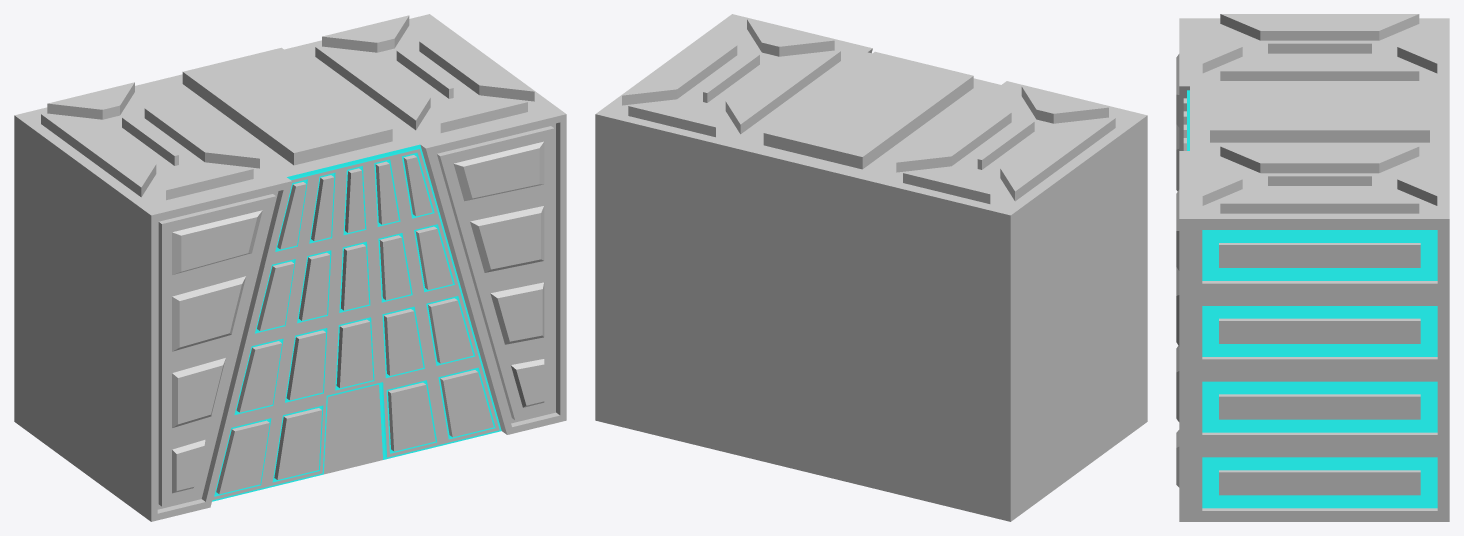
Rendered from building4.glb.
3 views of the same model, side by side, from view 1: azimuth 30°, elevation 25°; view 2: azimuth 150°, elevation 25°; view 3: azimuth 270°, elevation 25° (orthographic).
Parts seen in each view (by area): view 1: Cube.013; view 2: Cube.013; view 3: Cube.013.
Part boxes in pixels (x1,y1,x2,y2): Cube.013: (14,14,566,521); Cube.013: (595,14,1147,521); Cube.013: (1176,14,1449,521).
Bounding box in the file's own units: 23.67 × 17.36 × 13.65.
